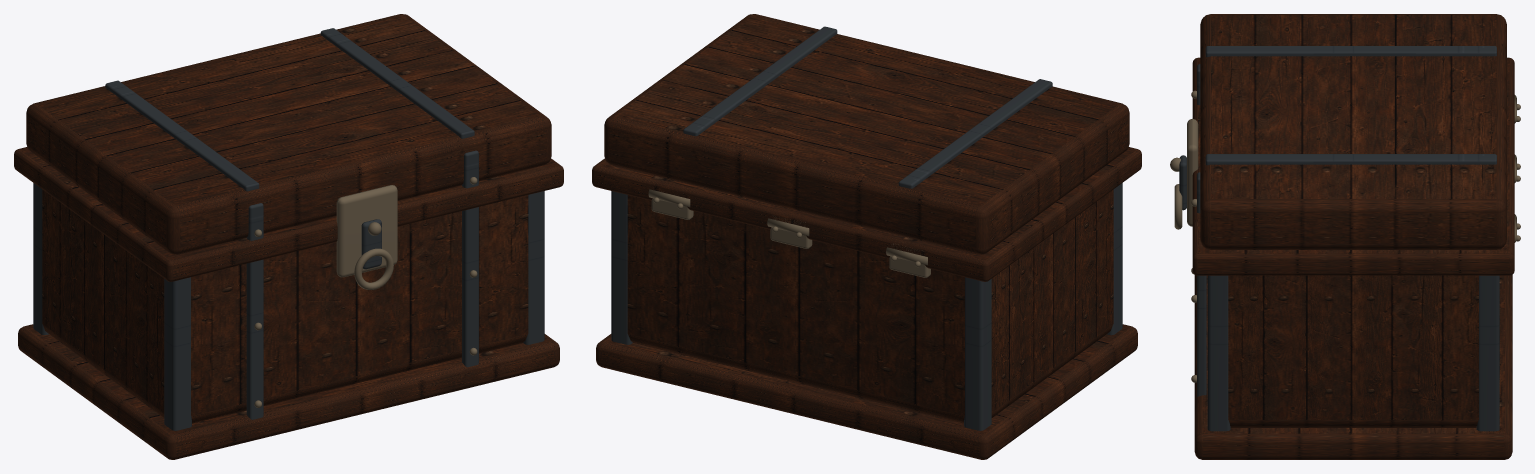
Rendered from containment-box-v02-wood.glb.
3 renders of one model, left to right at view 1: azimuth 30°, elevation 25°; view 2: azimuth 150°, elevation 25°; view 3: azimuth 270°, elevation 25°, orthographic. The views are drawn at different scales.
Visible parts, largest first — view 1: Fitted solid lid, Main containment body, Lower iron plinth, Lid seam rim, Corner guard -1 -1, Lock plate, Front retaining strap -0.29, Front retaining strap 0.29, Corner guard 1 -1, Lid retaining strap 0.29, Lid retaining strap -0.29, Corner guard -1 1 (+2 smaller); view 2: Fitted solid lid, Main containment body, Lower iron plinth, Lid seam rim, Corner guard -1 1, Corner guard 1 1, Lid retaining strap 0.29, Lid retaining strap -0.29, Corner guard -1 -1, Rear hinge leaf 0, Rear hinge leaf -0.32; view 3: Fitted solid lid, Main containment body, Lower iron plinth, Lid seam rim, Corner guard 1 -1, Corner guard 1 1, Lid retaining strap 0.29, Lid retaining strap -0.29, Front retaining strap 0.29, Lock plate, Latch tongue, Drop ring clasp.
Boxes of the visible parts, box(x1,y1,x2,y2) form: Fitted solid lid: box(26, 14, 551, 254); Main containment body: box(42, 189, 528, 423); Lower iron plinth: box(18, 324, 559, 459); Lid seam rim: box(14, 147, 563, 281); Corner guard -1 -1: box(164, 277, 191, 430); Lock plate: box(336, 185, 397, 277); Front retaining strap -0.29: box(246, 203, 263, 419); Front retaining strap 0.29: box(462, 150, 478, 367); Corner guard 1 -1: box(523, 191, 544, 344); Lid retaining strap 0.29: box(320, 28, 474, 138); Lid retaining strap -0.29: box(105, 80, 259, 191); Corner guard -1 1: box(33, 183, 48, 335); Fitted solid lid: box(604, 14, 1129, 254); Main containment body: box(627, 189, 1113, 423); Lower iron plinth: box(596, 324, 1137, 459); Lid seam rim: box(592, 147, 1141, 281); Corner guard -1 1: box(964, 277, 991, 430); Corner guard 1 1: box(611, 191, 632, 344); Lid retaining strap 0.29: box(683, 26, 837, 136); Lid retaining strap -0.29: box(898, 79, 1052, 188); Corner guard -1 -1: box(1107, 183, 1122, 335); Rear hinge leaf 0: box(770, 216, 812, 248); Rear hinge leaf -0.32: box(889, 243, 930, 277); Fitted solid lid: box(1200, 14, 1506, 249); Main containment body: box(1228, 275, 1478, 427); Lower iron plinth: box(1194, 275, 1512, 459); Lid seam rim: box(1192, 57, 1514, 275); Corner guard 1 -1: box(1207, 275, 1230, 431); Corner guard 1 1: box(1476, 275, 1499, 431); Lid retaining strap 0.29: box(1205, 154, 1496, 165); Lid retaining strap -0.29: box(1205, 46, 1496, 57); Front retaining strap 0.29: box(1197, 172, 1206, 396); Lock plate: box(1187, 119, 1198, 226); Latch tongue: box(1179, 155, 1186, 210); Drop ring clasp: box(1174, 184, 1182, 229).
Bounding box in the file's own units: 1.07 × 0.6525 × 0.795.
Materials: 3 (2 with a texture image).
